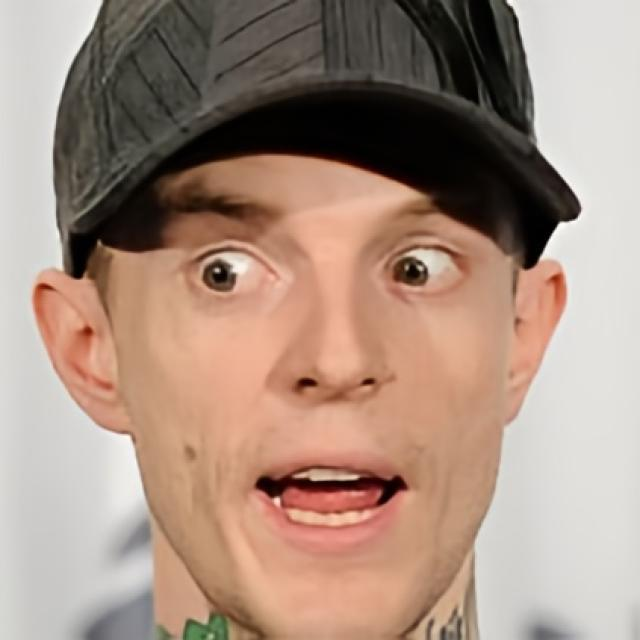surprise: (85, 71, 517, 640)
